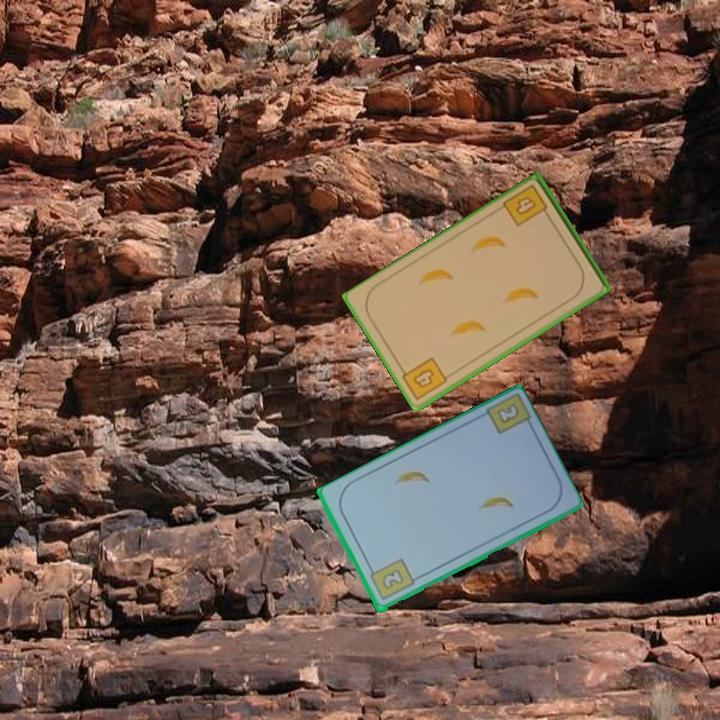2b: (365, 555, 417, 604), (493, 400, 522, 427)
4b: (396, 354, 450, 403), (500, 181, 553, 230)
